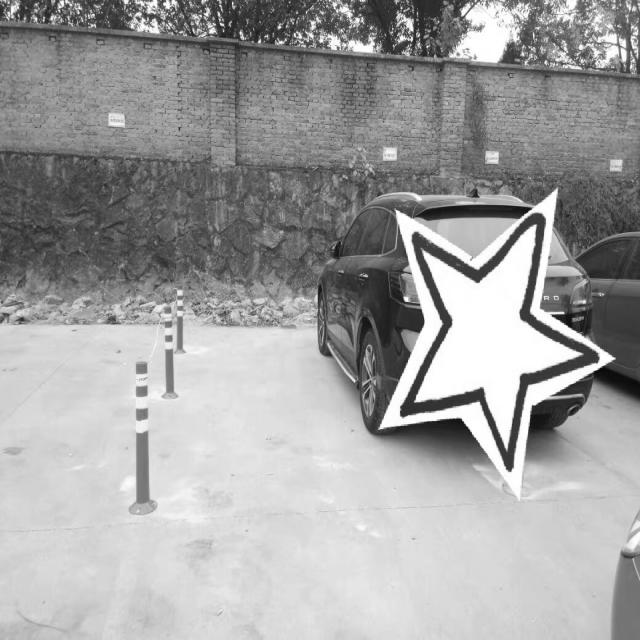car: (316, 189, 595, 432), (572, 231, 639, 385)
warning_column: (127, 360, 158, 514), (160, 305, 177, 398), (173, 282, 185, 354)
